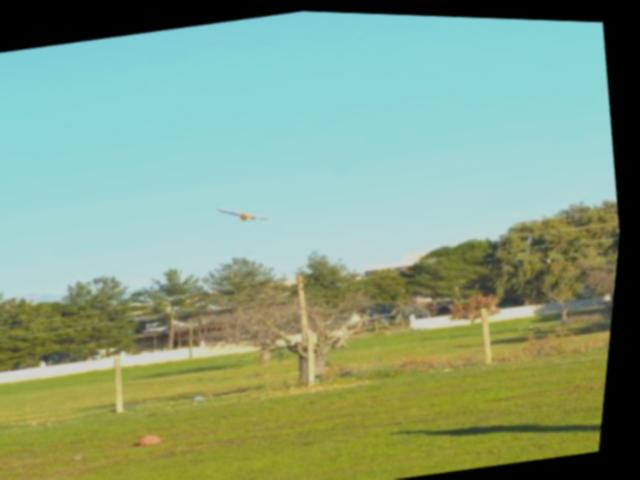iha: (219, 199, 276, 226)
